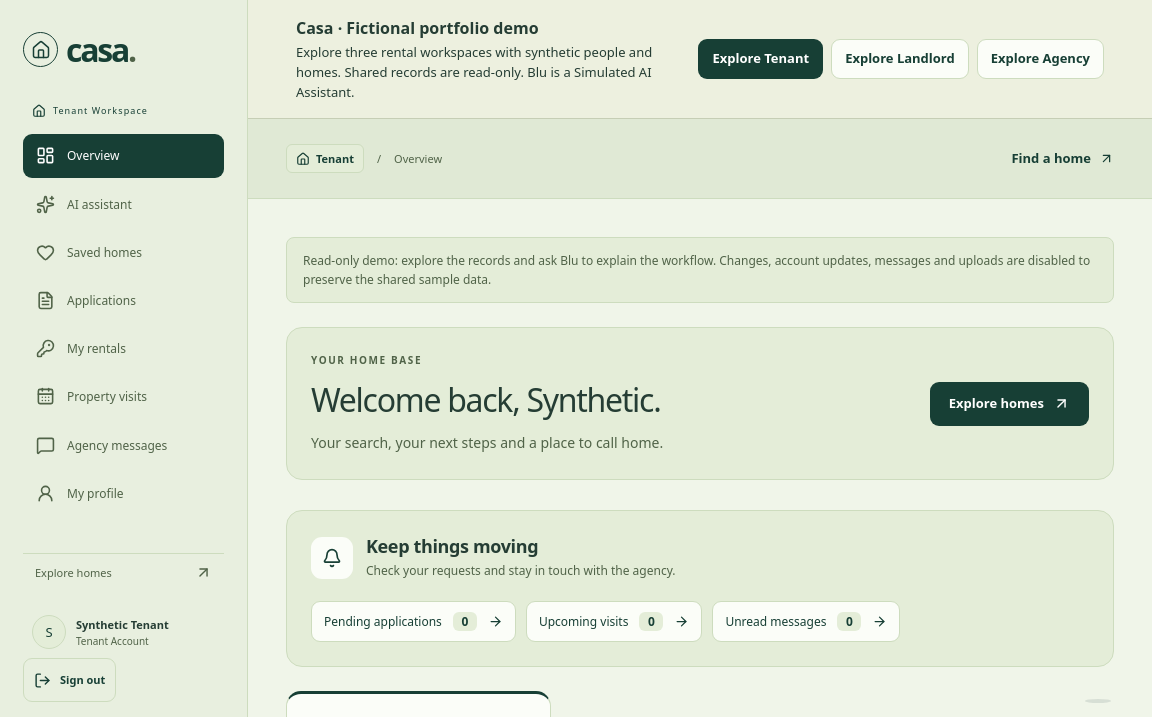
Test case: keeps Blu and labels the popup simulation
The width and height of the screenshot is (1152, 717).
Check: the element "Fictional portfolio demo" is shown, box [248,0,1151,119]
Click the button named "Open Blu assistant": {"x": 1098, "y": 672} [1062,632,1134,712]
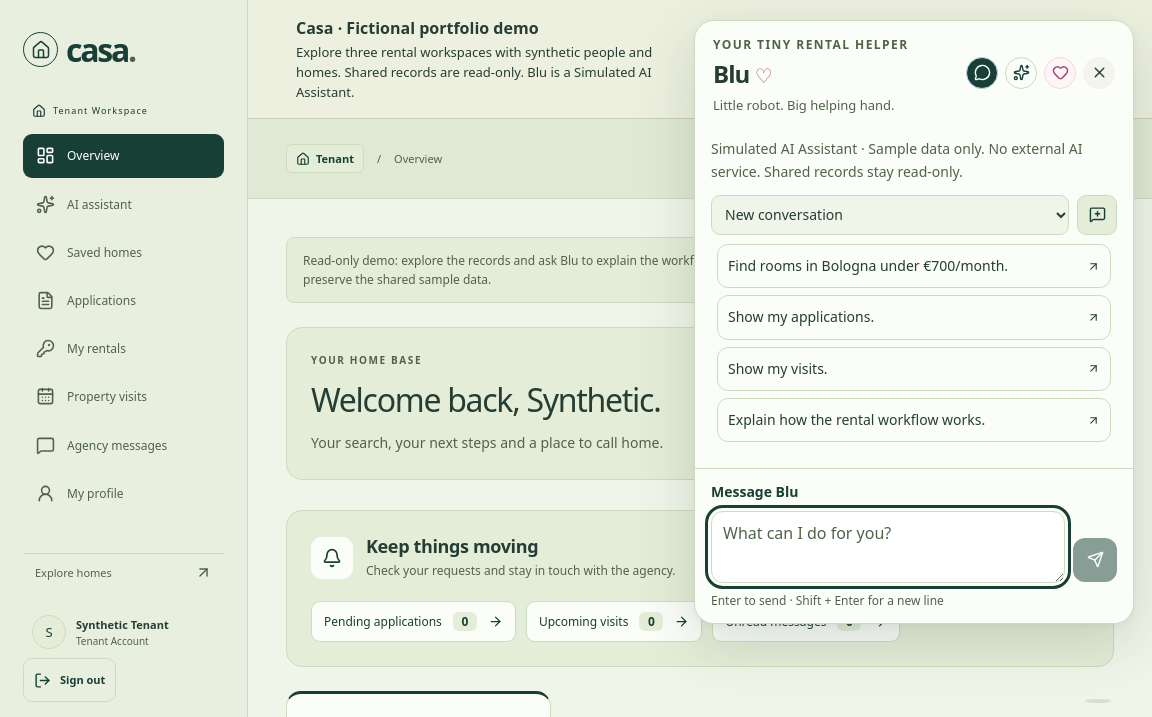
Check: the text "Simulated AI Assistant · Sample data only" is shown, box [711,139,1082,181]
Check: the text box labelled "Message Blu" is enabled, box [711,511,1065,583]
